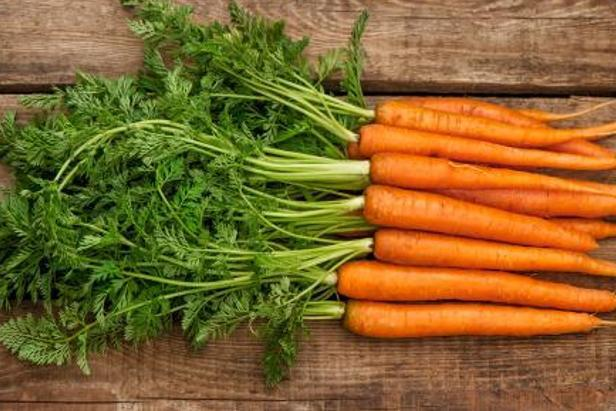carrot: (338, 90, 616, 345), (356, 121, 616, 196)
